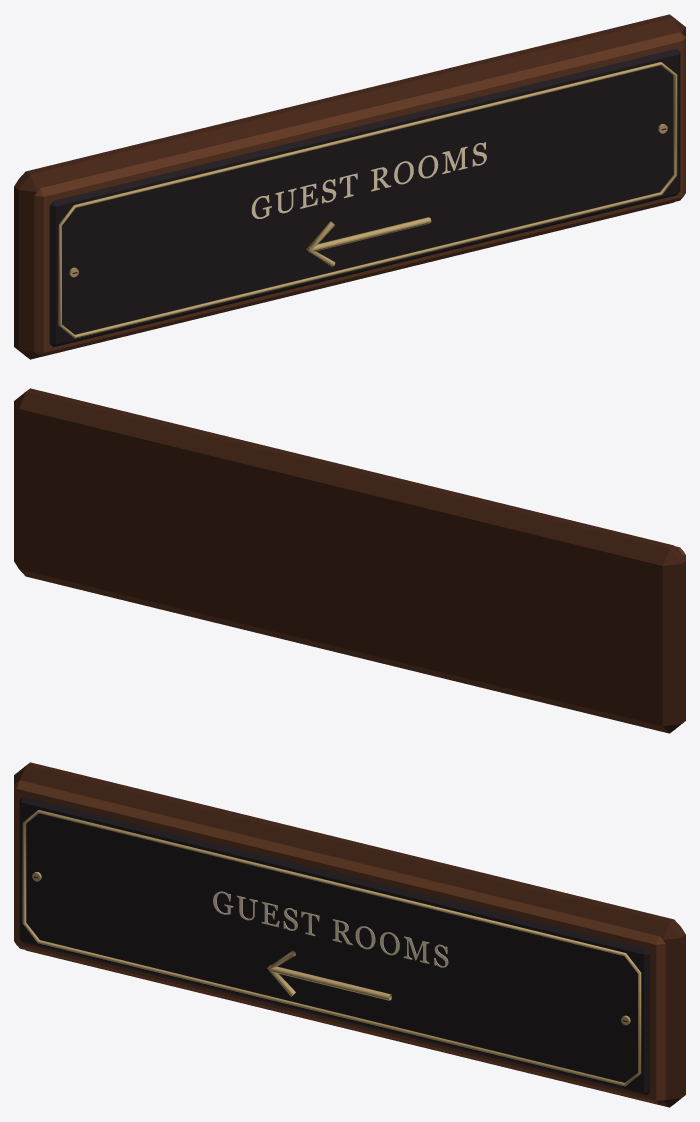
File: DirectionLeft.glb
3 views of the same model, one above another, from view 1: azimuth 30°, elevation 25°; view 2: azimuth 150°, elevation 25°; view 3: azimuth 330°, elevation 25° (orthographic).
Parts seen in each view (by area): view 1: EnamelFace.016, OakMoulding.016, BevelledOak.016, GoldCartouche.016, Lettering_GUEST ROOMS.001, DirectionalArrow; view 2: BevelledOak.016; view 3: EnamelFace.016, OakMoulding.016, BevelledOak.016, GoldCartouche.016, Lettering_GUEST ROOMS.001, DirectionalArrow.
Part boxes in pixels (box(x1,y1,x2,y2)): EnamelFace.016: box(49, 49, 680, 347); OakMoulding.016: box(34, 32, 685, 356); BevelledOak.016: box(14, 14, 685, 359); GoldCartouche.016: box(58, 62, 677, 338); Lettering_GUEST ROOMS.001: box(251, 142, 486, 218); DirectionalArrow: box(309, 217, 431, 252); BevelledOak.016: box(14, 388, 685, 733); EnamelFace.016: box(19, 797, 650, 1095); OakMoulding.016: box(14, 780, 665, 1104); BevelledOak.016: box(14, 762, 685, 1107); GoldCartouche.016: box(22, 810, 641, 1086); Lettering_GUEST ROOMS.001: box(213, 891, 448, 967); DirectionalArrow: box(269, 965, 391, 1000).
Bounding box in the file's own units: 5.1 × 1.35 × 0.402.
